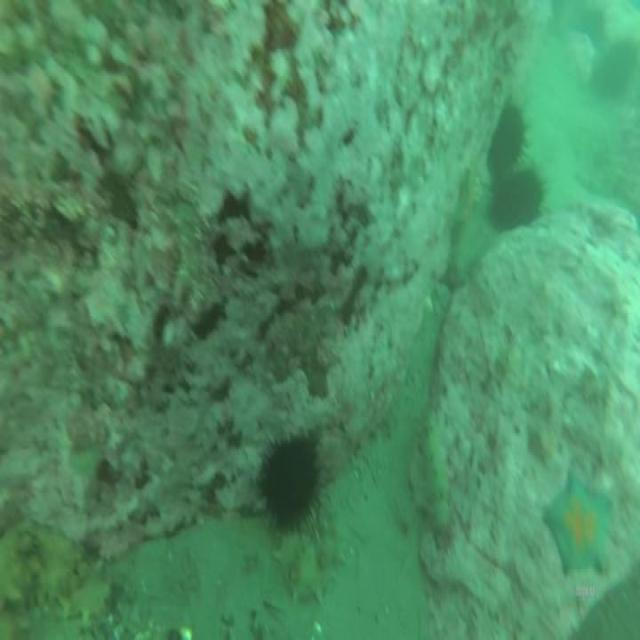echinus: (260, 436, 318, 526), (594, 33, 638, 100), (488, 171, 542, 224), (490, 108, 526, 176)
holothurian: (0, 518, 86, 606), (272, 520, 346, 594), (419, 412, 454, 531)
starfish: (546, 469, 612, 578)
